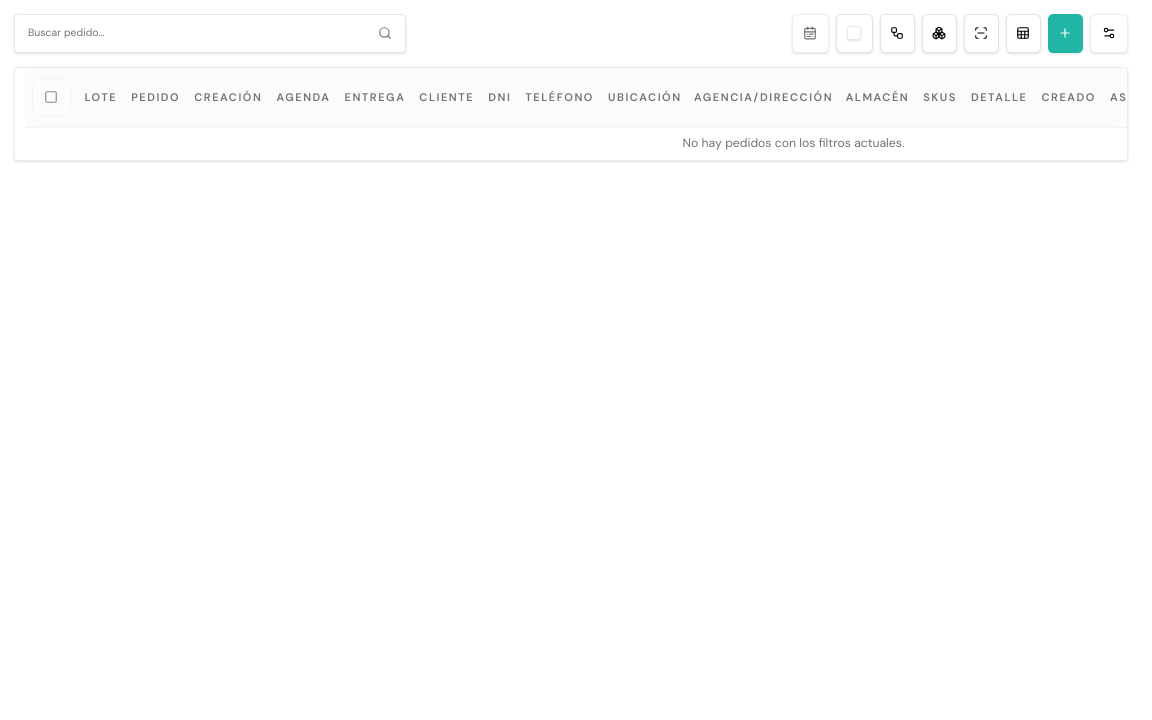
Scenario: SaleOrders › opens the unified modal in create mode from Nuevo pedido
Click the button named "nuevo pedido" at (1065, 33), box x1=1048 y1=14 x2=1082 y2=52
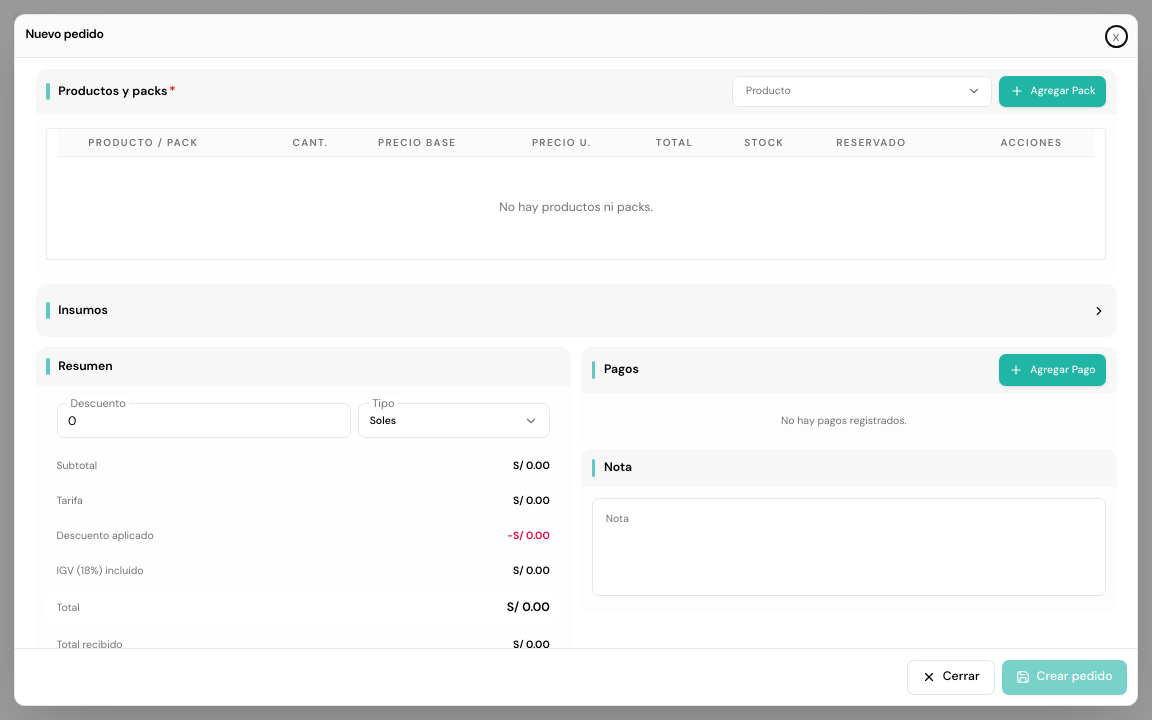
expect the heading "Nuevo pedido" is shown: met, box x1=26 y1=26 x2=104 y2=43
